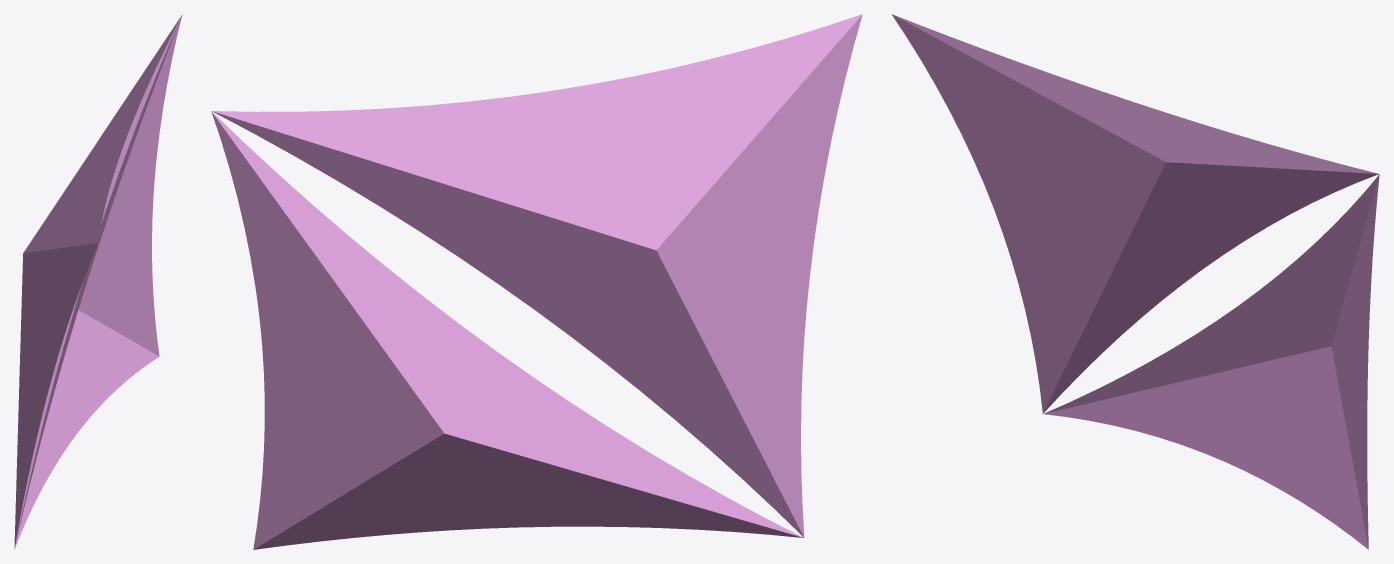
File: TYPE5-3.glb
3 renders of one model, left to right at view 1: azimuth 30°, elevation 25°; view 2: azimuth 150°, elevation 25°; view 3: azimuth 270°, elevation 25°, orthographic. The views are drawn at different scales.
Visible parts, largest first — view 1: TYPE5-3 (×6); view 2: TYPE5-3 (×6); view 3: TYPE5-3 (×6).
Part boxes in pixels (x1=…): TYPE5-3 (×6): x1=14, y1=15, x2=182, y2=549; TYPE5-3 (×6): x1=211, y1=14, x2=862, y2=549; TYPE5-3 (×6): x1=891, y1=14, x2=1379, y2=549.
Size of the model in its own units: 7.02 by 7.66 by 8.1.
